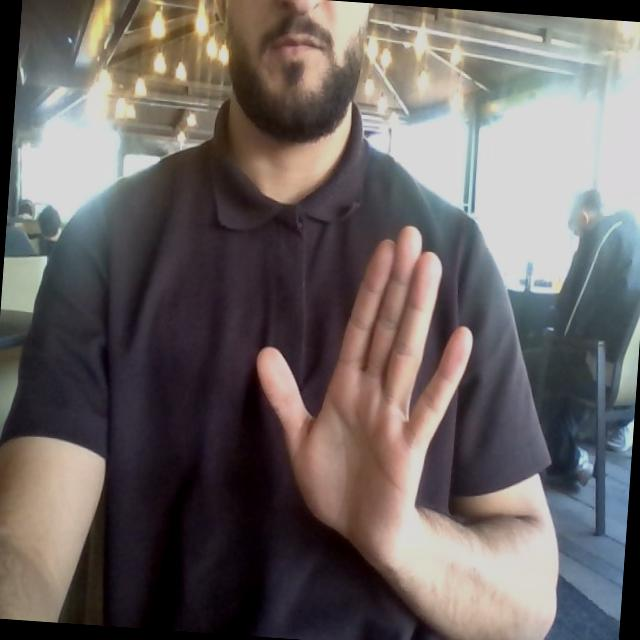Hand: (257, 226, 472, 562)
